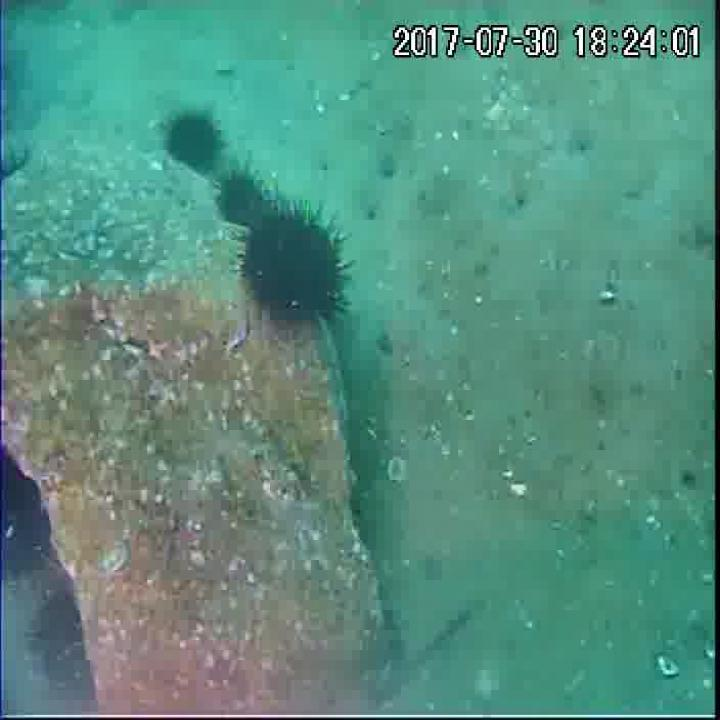echinus: (244, 205, 347, 327), (23, 585, 95, 704), (0, 450, 51, 570), (211, 161, 277, 235), (161, 110, 225, 174)
